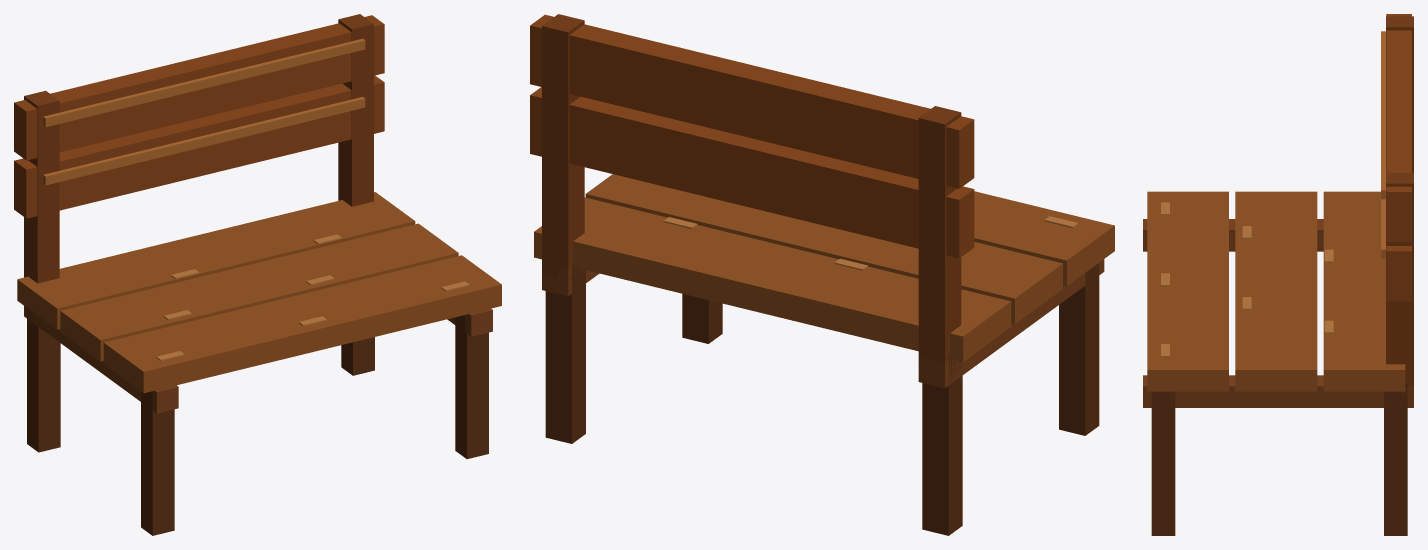
File: CMU3DSlattedWoodenBench.glb
The picture shows the model from 3 angles, left to right: view 1: azimuth 30°, elevation 25°; view 2: azimuth 150°, elevation 25°; view 3: azimuth 270°, elevation 25°; orthographic projection. The views are drawn at different scales.
Visible parts, largest first — view 1: wooden seat plank (×3), wooden back plank (×2), wooden leg (×4), back upright (×2), back plank upper grain (×2), seat end support (×2); view 2: wooden back plank (×2), wooden seat plank (×3), wooden leg (×4), back upright (×2), seat end support (×2); view 3: wooden seat plank (×3), wooden leg (×2), wooden back plank (×2), seat end support (×2), back upright (×2), back plank upper grain.
Boxes of the visible parts, left/top/right/bottom form: wooden seat plank (×3): left=17, top=192, right=501, bottom=393; wooden back plank (×2): left=14, top=15, right=384, bottom=218; wooden leg (×4): left=27, top=308, right=488, bottom=535; back upright (×2): left=24, top=14, right=373, bottom=283; back plank upper grain (×2): left=43, top=38, right=365, bottom=185; seat end support (×2): left=24, top=306, right=492, bottom=413; wooden back plank (×2): left=530, top=14, right=974, bottom=258; wooden seat plank (×3): left=534, top=174, right=1114, bottom=361; wooden leg (×4): left=545, top=263, right=1099, bottom=535; back upright (×2): left=542, top=14, right=961, bottom=371; seat end support (×2): left=542, top=259, right=1104, bottom=388; wooden seat plank (×3): left=1147, top=191, right=1405, bottom=391; wooden leg (×2): left=1151, top=383, right=1407, bottom=535; wooden back plank (×2): left=1386, top=14, right=1411, bottom=301; seat end support (×2): left=1143, top=219, right=1413, bottom=407; back upright (×2): left=1386, top=16, right=1413, bottom=395; back plank upper grain: left=1381, top=31, right=1385, bottom=199.
Size of the model in its own units: 0.98 by 0.904 by 0.63.
